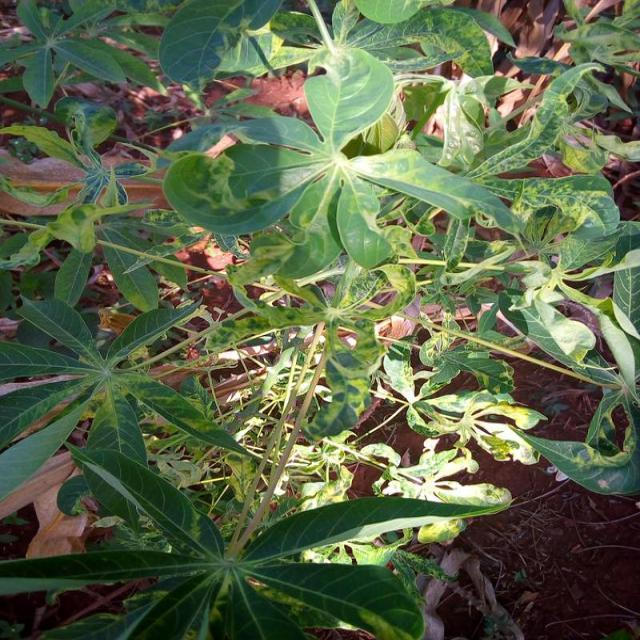cassava leaf: (0, 1, 638, 637), (162, 44, 526, 286)
